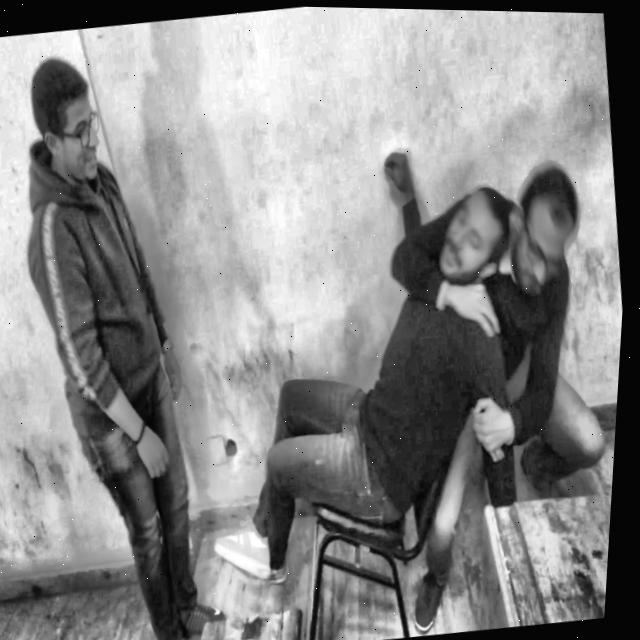robbery: (211, 147, 615, 636)
